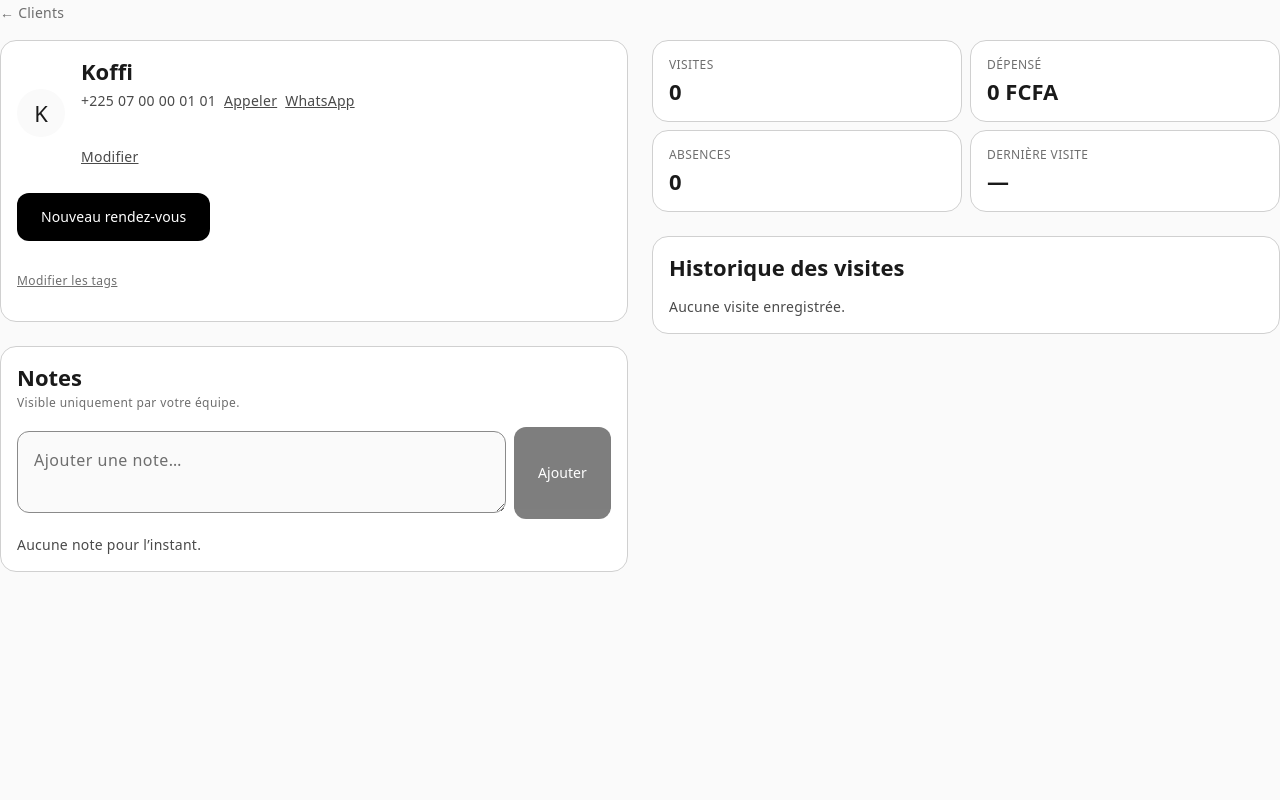
Test case: a save with no network says so and gives the control back › « Modifier le numéro »: the sentence, « Enregistrer » back, and the dialog closes again
Expected: the heading "Koffi" is shown, [81,56,133,86]
Click the button with aria-label "Modifier le numéro" at coordinates (110, 157), box [81,133,138,181]
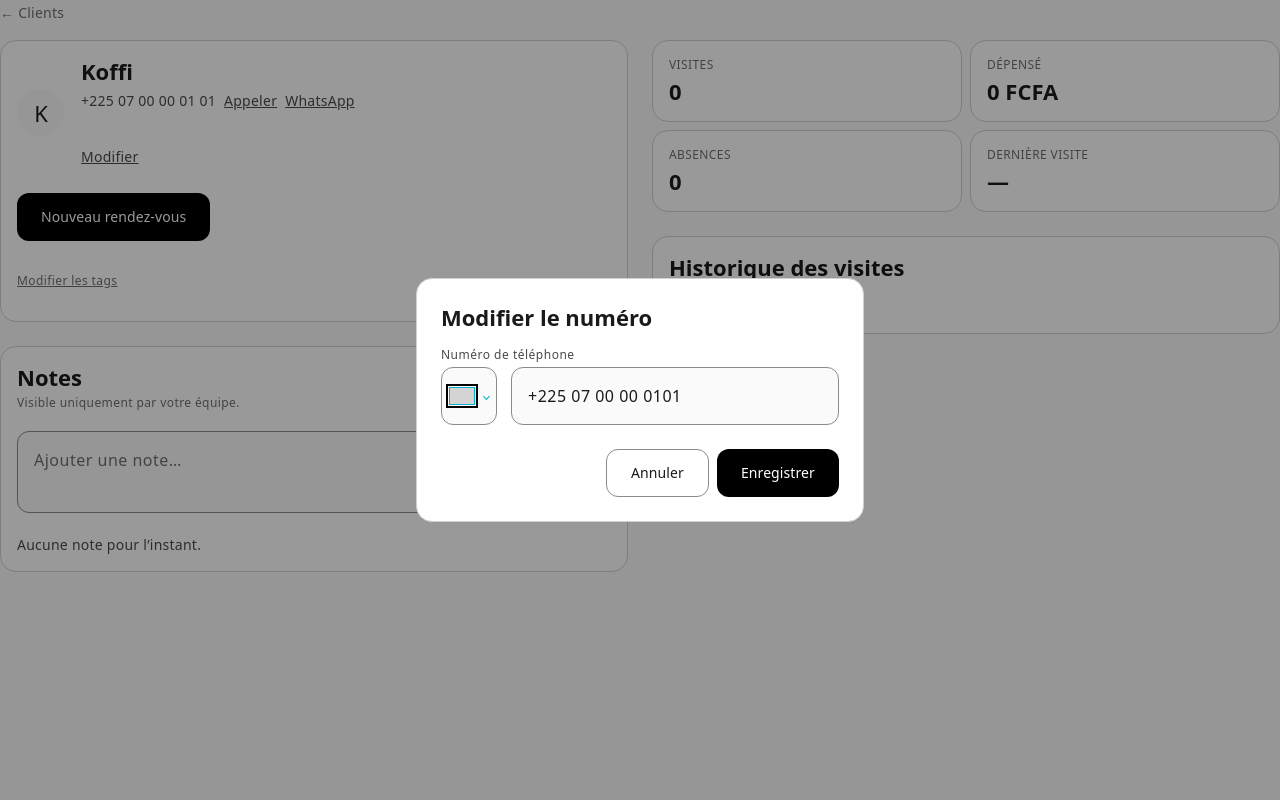
Replace the text in the field labelled "Numéro de téléphone" with "+225 05 05 12 34 56" at coordinates (675, 396), box [511,367,839,425]
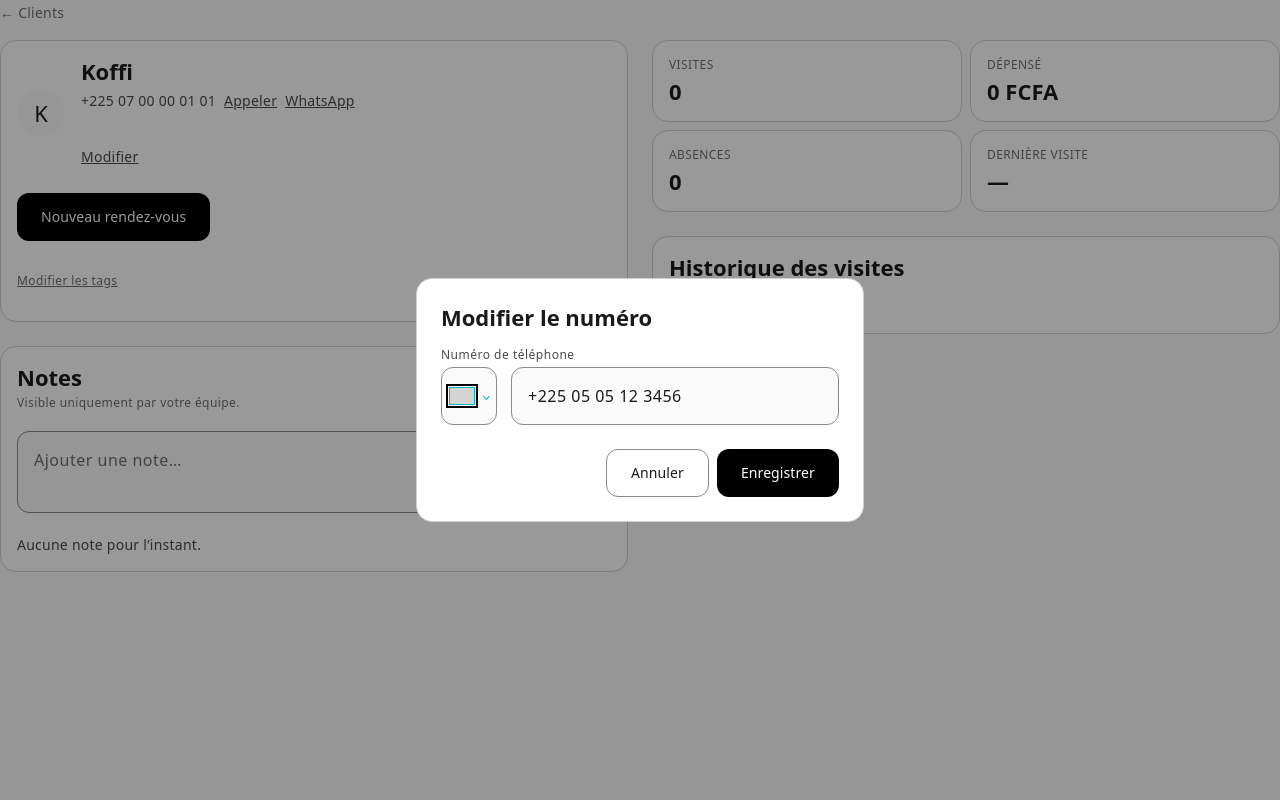
Click the button "Enregistrer" at coordinates (778, 473), box [717,449,839,497]
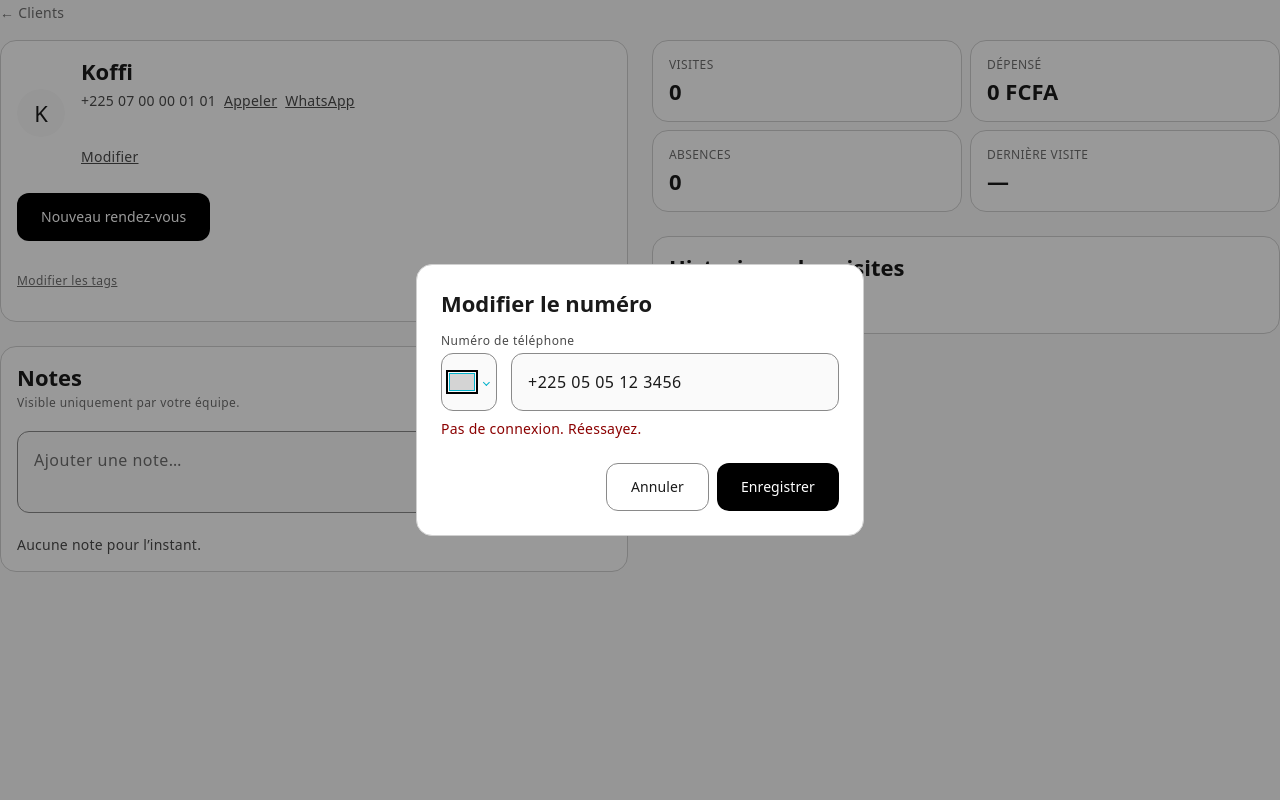
Expected: the button "Enregistrer" is enabled, [717,463,839,511]
Expected: the text "Pas de connexion. Réessayez." is shown, [441,419,642,438]
Note: Not shut in: « Annuler » closes it.
Click the button "Annuler" at coordinates (657, 487), box [606,463,709,511]
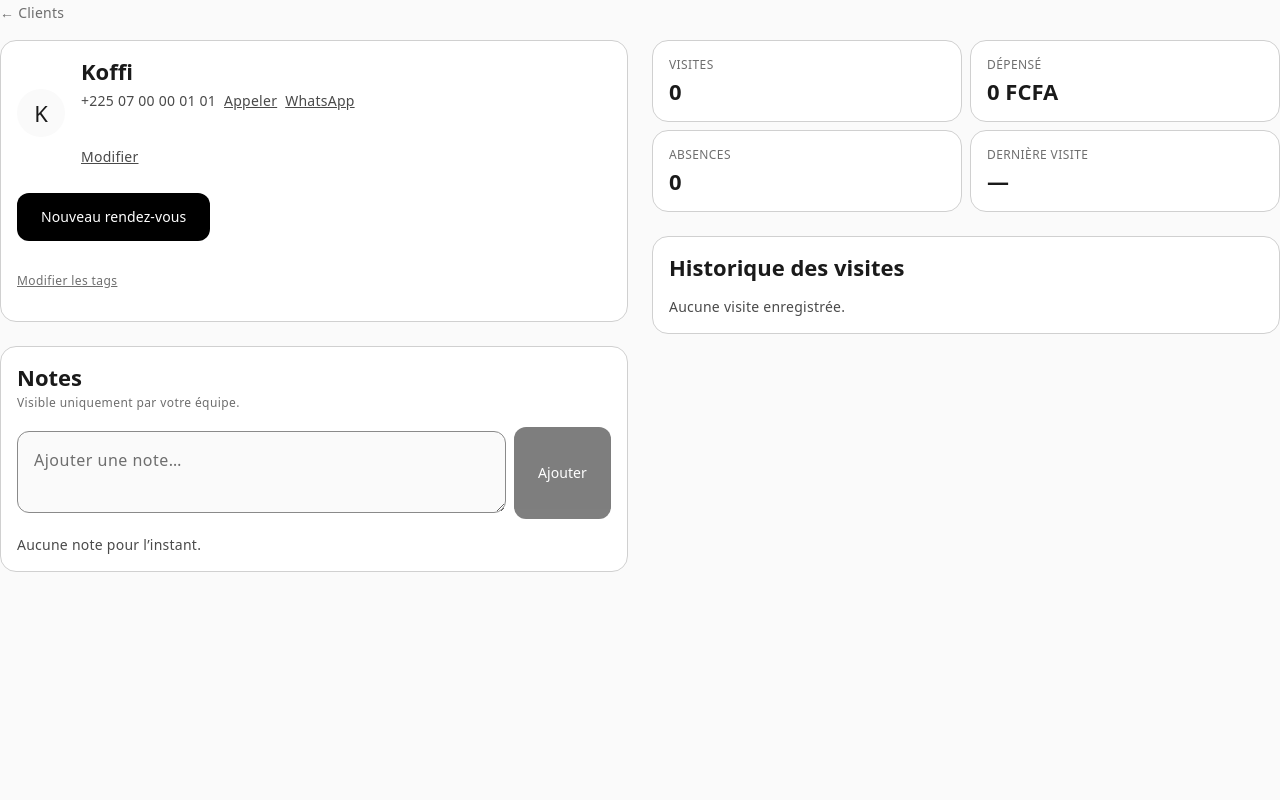
Expected: the heading "Modifier le numéro" is gone
